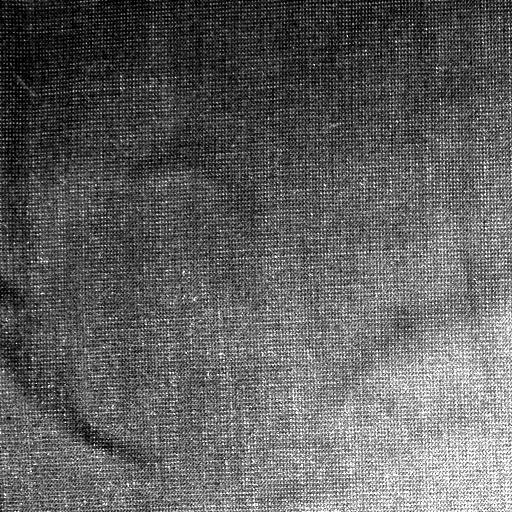fabric_perfect: (4, 6, 512, 512)
